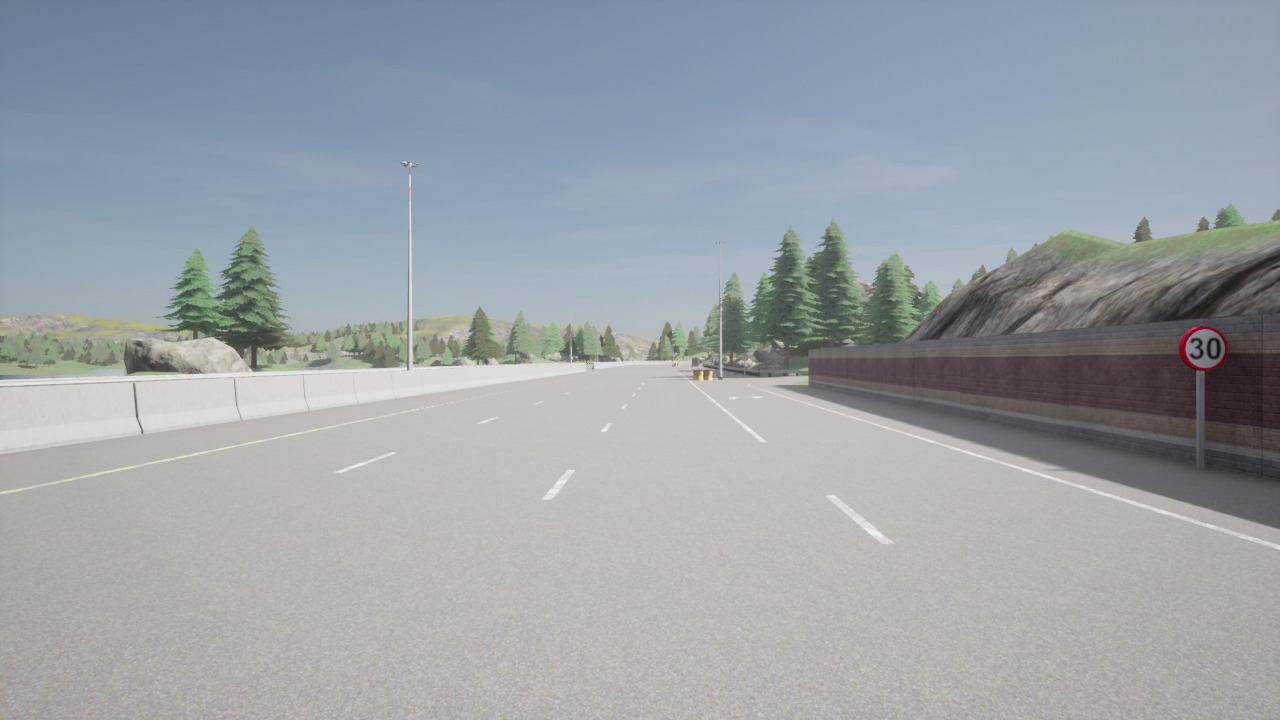sl30: (1177, 325, 1230, 373)
